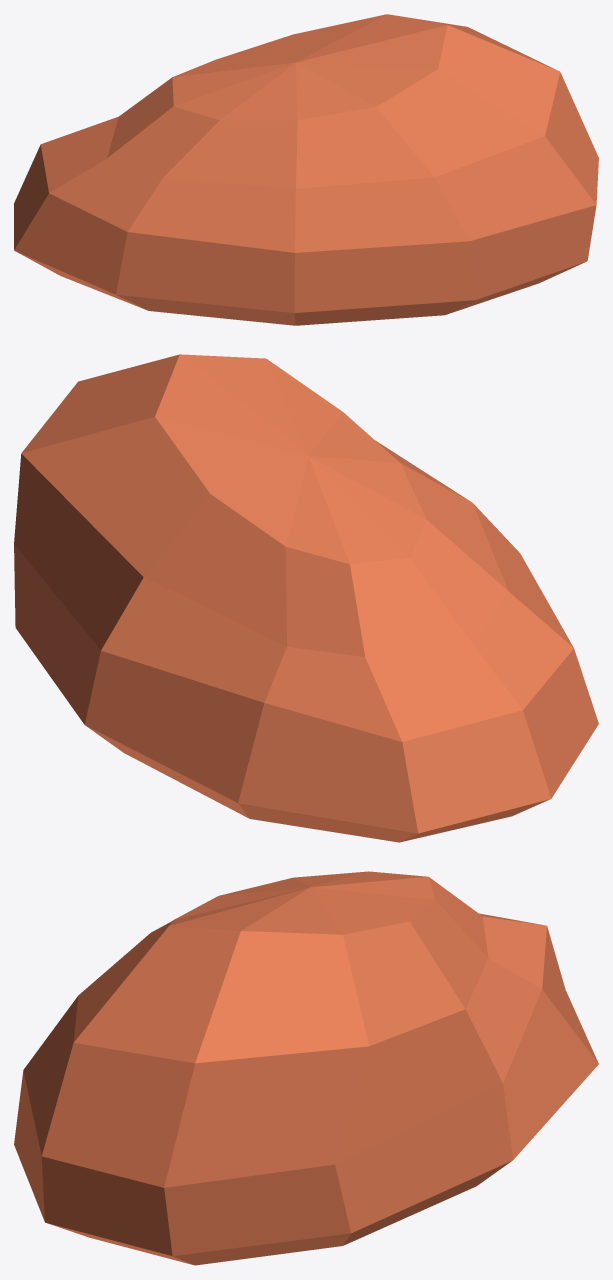
The model's file is Rock_V02.fbx.
3 views of the same model, one above another, from view 1: azimuth 30°, elevation 25°; view 2: azimuth 150°, elevation 25°; view 3: azimuth 270°, elevation 25° (orthographic). The views are drawn at different scales.
Parts seen in each view (by area): view 1: Rock Small; view 2: Rock Small; view 3: Rock Small.
Boxes of the visible parts, left/top/right/bottom form: Rock Small: left=14, top=14, right=598, bottom=325; Rock Small: left=14, top=354, right=598, bottom=842; Rock Small: left=14, top=871, right=598, bottom=1265.
Size of the model in its own units: 46.57 by 21.48 by 38.34.
